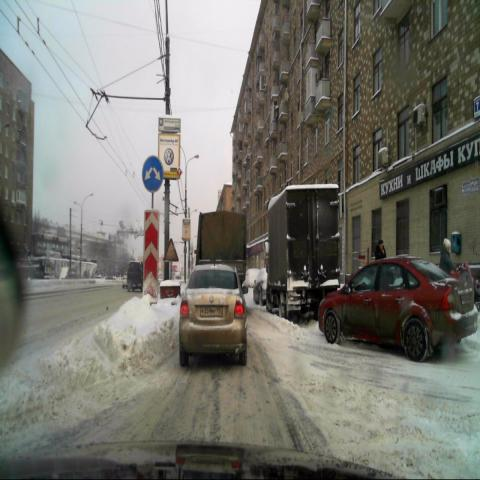4_2_3: (142, 155, 162, 192)
